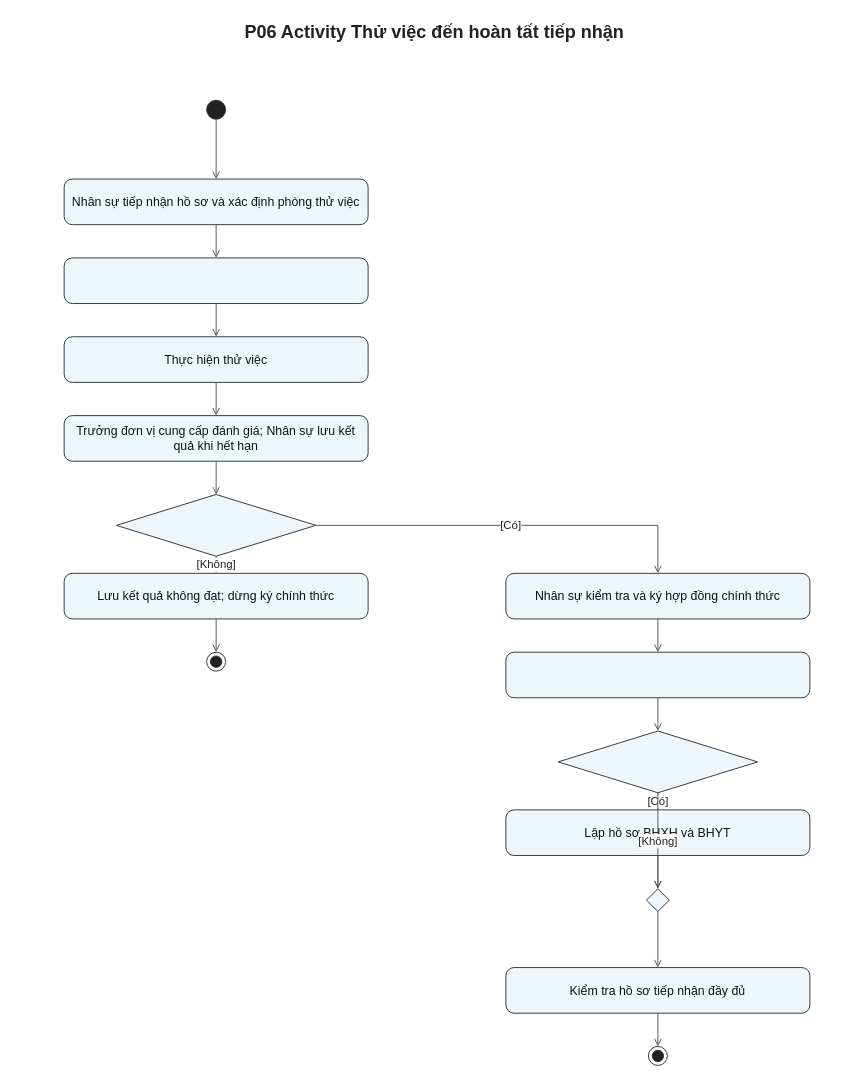
Some shapes in this 868 by 1082 pixel diagram are drawn without their labels. Here are the shapes that lost their labels. From the top down, the centre of each, then its label:
At point (215, 280): "Lập quyết định tuyển dụng: thời hạn, lương, điều khoản".
At point (215, 525): "Kết quả đạt?".
At point (657, 674): "Lập quyết định lương và chức vụ; ghi phụ cấp nếu có".
At point (657, 761): "Hợp đồng dài hạn?".
